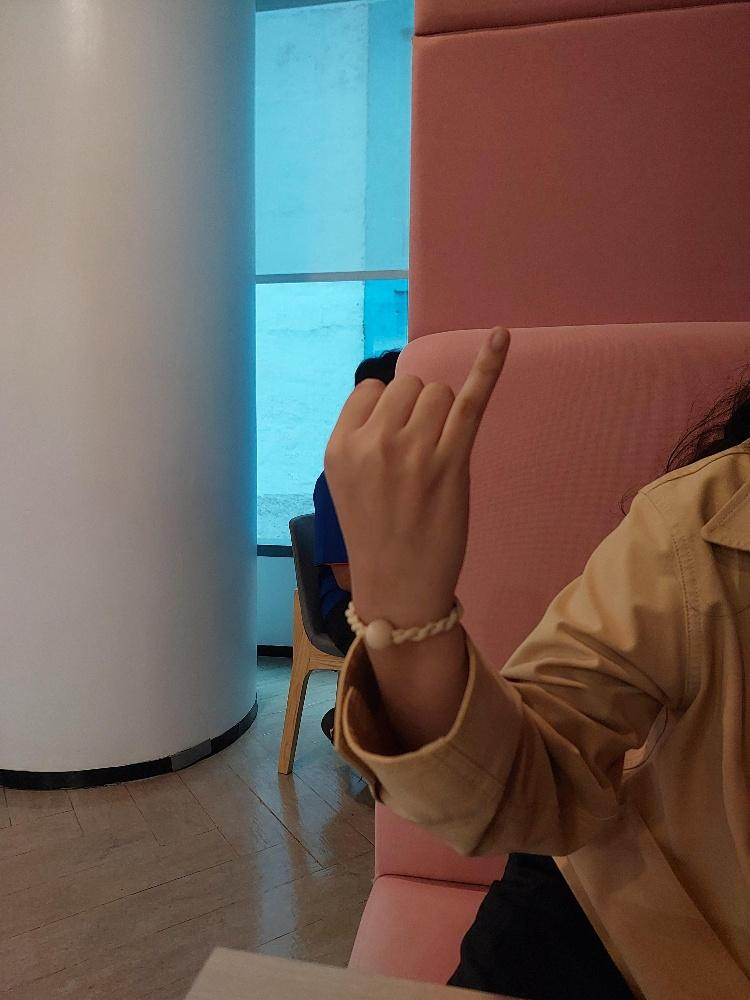j: (320, 315, 516, 632)
